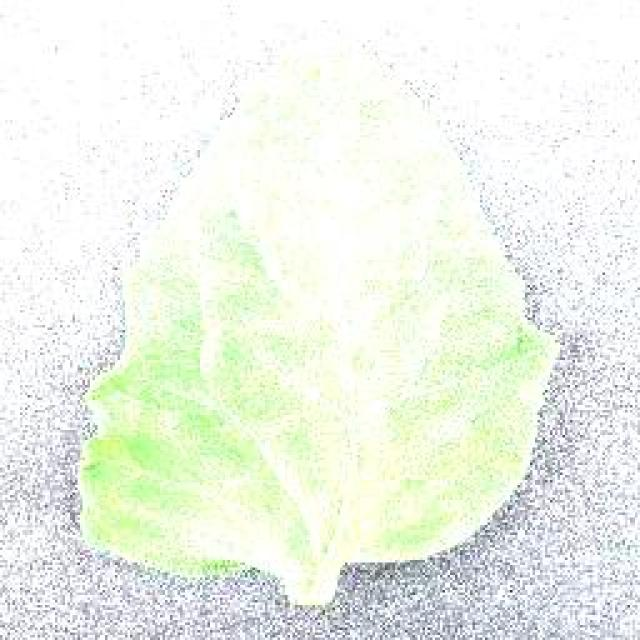Tomato___healthy: (71, 16, 564, 607)
